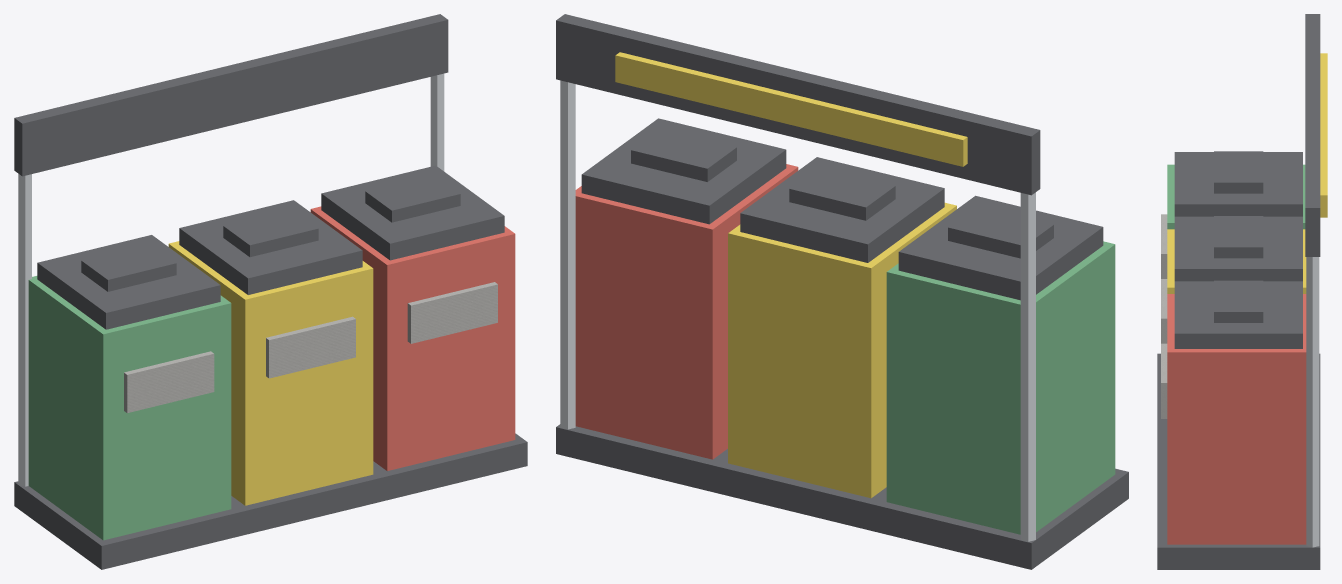
The model's file is street-food-market-and-food-trucks-recycling-station-34aec232__34305.glb.
The picture shows the model from 3 angles, left to right: view 1: azimuth 30°, elevation 25°; view 2: azimuth 150°, elevation 25°; view 3: azimuth 270°, elevation 25°; orthographic projection. The views are drawn at different scales.
Visible parts, largest first — view 1: recycling-station-charcoal, recycling-station-leaf, recycling-station-canary, recycling-station-scarlet, recycling-station-concrete, recycling-station-steel; view 2: recycling-station-charcoal, recycling-station-leaf, recycling-station-canary, recycling-station-scarlet, recycling-station-steel; view 3: recycling-station-charcoal, recycling-station-scarlet, recycling-station-steel, recycling-station-canary, recycling-station-concrete, recycling-station-leaf.
Boxes of the visible parts, x1,y1,x2,y2 form: recycling-station-charcoal: [14, 14, 527, 569]; recycling-station-leaf: [28, 276, 231, 540]; recycling-station-canary: [168, 241, 373, 505]; recycling-station-scarlet: [310, 206, 515, 470]; recycling-station-concrete: [124, 282, 497, 413]; recycling-station-steel: [18, 73, 444, 486]; recycling-station-charcoal: [556, 14, 1128, 569]; recycling-station-leaf: [886, 241, 1115, 534]; recycling-station-canary: [615, 52, 967, 498]; recycling-station-scarlet: [575, 164, 798, 459]; recycling-station-steel: [560, 80, 1035, 541]; recycling-station-charcoal: [1157, 14, 1320, 569]; recycling-station-scarlet: [1167, 294, 1306, 544]; recycling-station-steel: [1306, 257, 1319, 547]; recycling-station-canary: [1167, 53, 1327, 293]; recycling-station-concrete: [1161, 214, 1167, 418]; recycling-station-leaf: [1167, 164, 1305, 229].
Size of the model in its own units: 1.86 by 1.62 by 0.69.
Materials: 6 (1 with a texture image).
